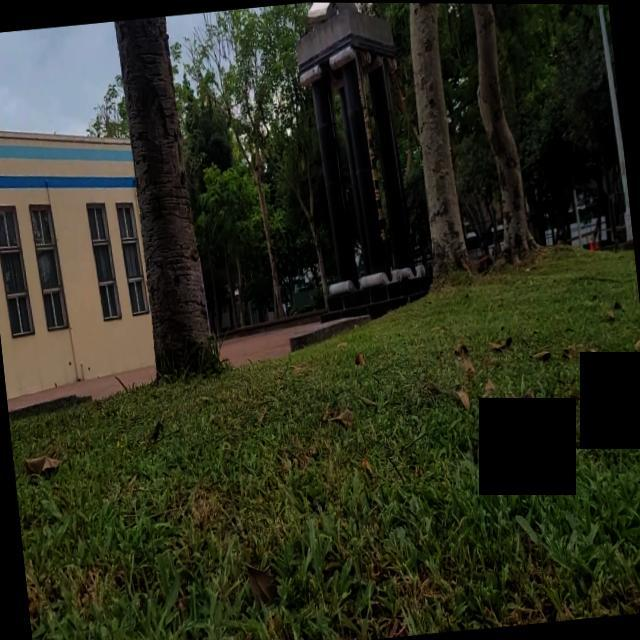Tree: (112, 15, 216, 380), (401, 4, 475, 284), (464, 4, 540, 271)
